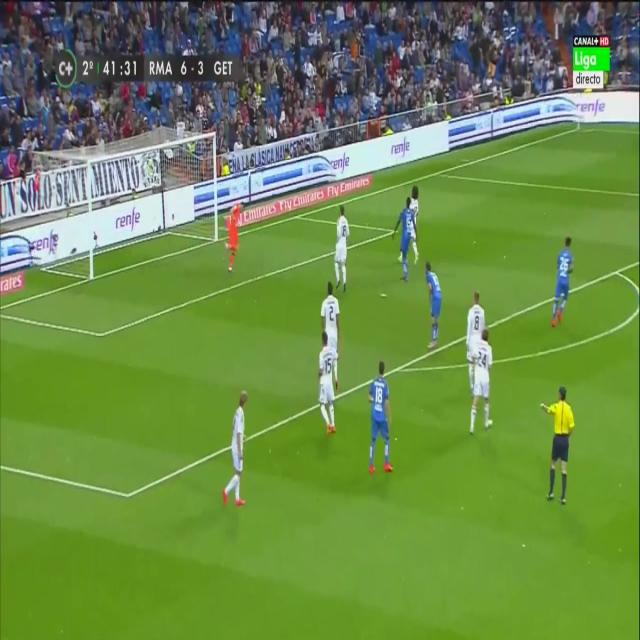Goalkeeper: (222, 197, 248, 276)
Player: (219, 390, 249, 510), (364, 360, 394, 478), (469, 327, 497, 436), (317, 329, 340, 434), (549, 233, 574, 329), (465, 290, 487, 393), (321, 281, 340, 392), (392, 198, 416, 282), (424, 262, 443, 354), (334, 201, 351, 293), (410, 186, 421, 263)
Referee: (539, 384, 575, 507)
